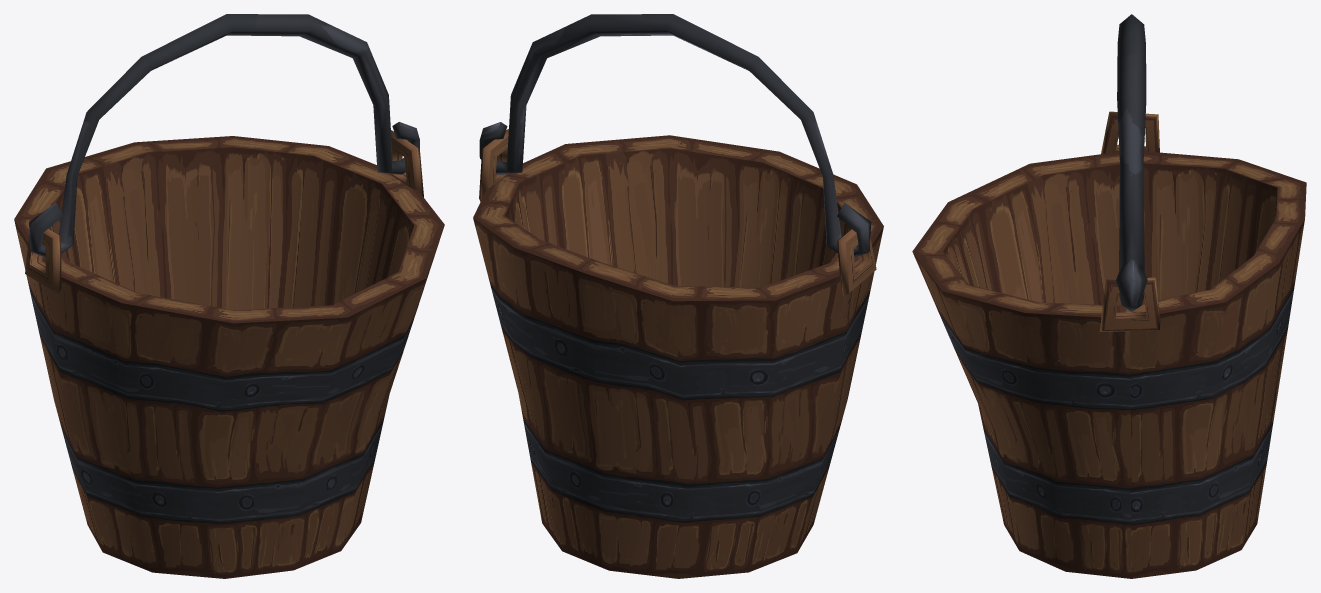
File: SM_PROP_bucket_interior_02.fbx
3 renders of one model, left to right at view 1: azimuth 30°, elevation 25°; view 2: azimuth 150°, elevation 25°; view 3: azimuth 270°, elevation 25°, orthographic. The views are drawn at different scales.
Visible parts, largest first — view 1: SM_PROP_bucket_interior_02, SM_PROP_bucket_handle_interior_02; view 2: SM_PROP_bucket_interior_02, SM_PROP_bucket_handle_interior_02; view 3: SM_PROP_bucket_interior_02, SM_PROP_bucket_handle_interior_02.
Part boxes in pixels (x1,y1,x2,y2): SM_PROP_bucket_interior_02: (14,130,444,578); SM_PROP_bucket_handle_interior_02: (29,14,419,257); SM_PROP_bucket_interior_02: (473,129,883,578); SM_PROP_bucket_handle_interior_02: (479,14,871,257); SM_PROP_bucket_interior_02: (912,111,1306,578); SM_PROP_bucket_handle_interior_02: (1116,14,1147,311).
Bounding box in the file's own units: 43.82 × 54.73 × 39.69.
